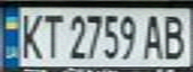2: (63, 10, 87, 60)
5: (103, 11, 121, 61)
7: (84, 11, 106, 61)
9: (118, 11, 142, 61)
A: (139, 11, 169, 61)
B: (157, 11, 190, 61)
K: (18, 10, 45, 61)
T: (39, 10, 66, 61)
